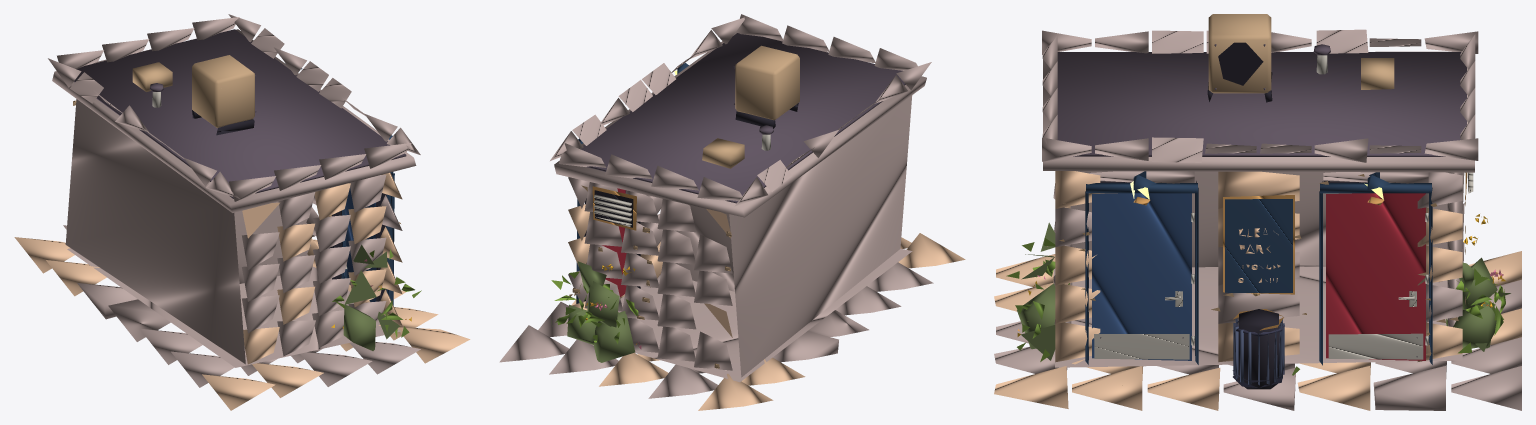
3 renders of one model, left to right at view 1: azimuth 30°, elevation 25°; view 2: azimuth 150°, elevation 25°; view 3: azimuth 270°, elevation 25°, orthographic. The views are drawn at different scales.
Size of the model in its own units: 4.34 by 4.19 by 6.68.
